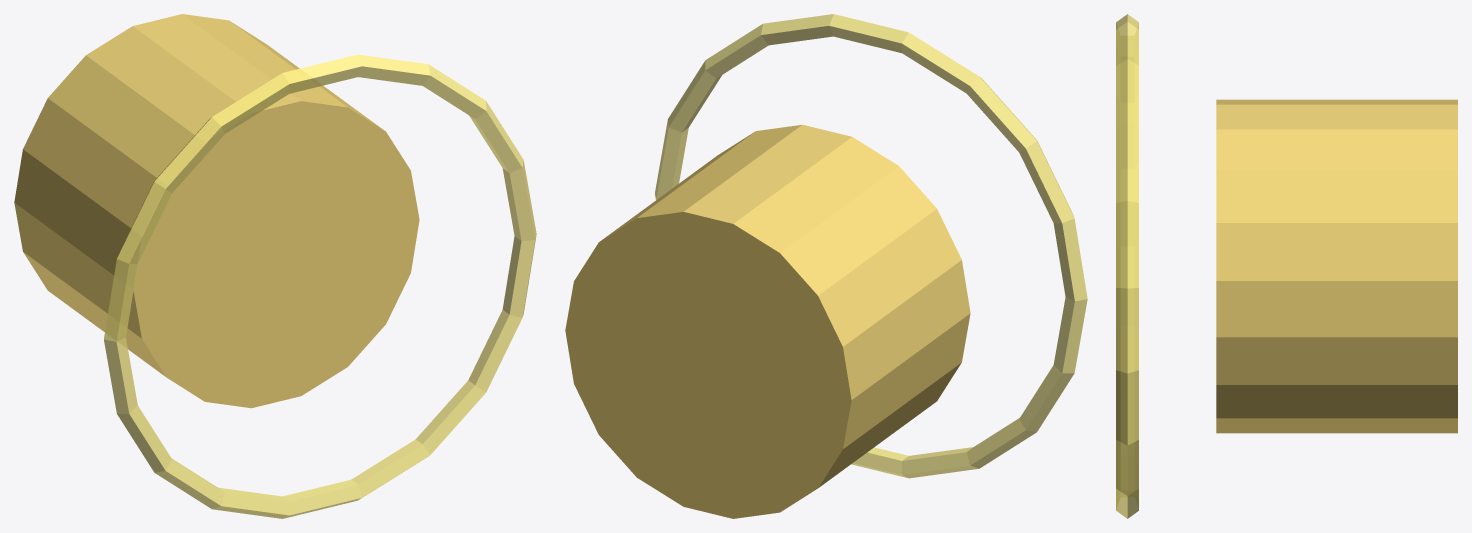
File: gold_coin_stack.glb
3 views of the same model, side by side, from view 1: azimuth 30°, elevation 25°; view 2: azimuth 150°, elevation 25°; view 3: azimuth 270°, elevation 25° (orthographic).
Parts seen in each view (by area): view 1: coin_7, shine_ring, coin_1, coin_0, coin_2, coin_3, coin_4, coin_5, coin_6; view 2: coin_0, shine_ring, coin_6, coin_7, coin_5, coin_2, coin_3, coin_4, coin_1; view 3: shine_ring, coin_2, coin_7, coin_0, coin_1, coin_3, coin_5, coin_6, coin_4.
Part boxes in pixels (box(x1,y1,x2,y2)): coin_7: box(124, 92, 419, 408); shine_ring: box(104, 54, 536, 518); coin_1: box(29, 25, 293, 311); coin_0: box(14, 14, 279, 300); coin_2: box(44, 36, 299, 322); coin_3: box(59, 46, 324, 331); coin_4: box(74, 57, 339, 330); coin_5: box(88, 68, 353, 355); coin_6: box(103, 79, 369, 366); coin_0: box(565, 201, 866, 518); shine_ring: box(655, 14, 1087, 478); coin_6: box(690, 135, 955, 422); coin_7: box(705, 124, 970, 411); coin_5: box(675, 146, 940, 433); coin_2: box(630, 179, 896, 465); coin_3: box(646, 168, 910, 455); coin_4: box(660, 157, 925, 444); coin_1: box(615, 190, 881, 476); shine_ring: box(1116, 14, 1138, 518); coin_2: box(1367, 99, 1397, 433); coin_7: box(1216, 99, 1246, 433); coin_0: box(1427, 99, 1457, 433); coin_1: box(1397, 99, 1427, 433); coin_3: box(1337, 99, 1367, 433); coin_5: box(1276, 99, 1306, 433); coin_6: box(1246, 99, 1276, 433); coin_4: box(1307, 99, 1336, 433).
Bounding box in the file's own units: 0.756 × 0.7445 × 0.5096.
